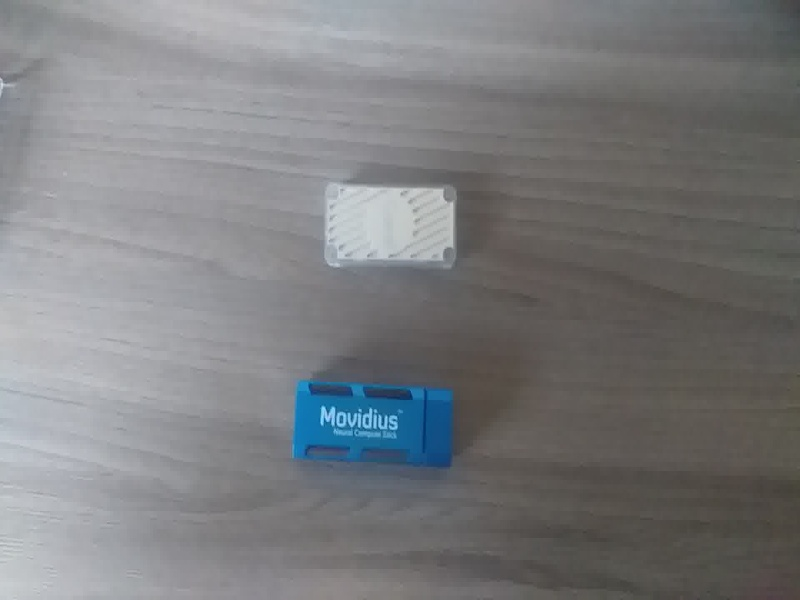coral: (322, 179, 466, 275)
movidius: (287, 375, 459, 484)
